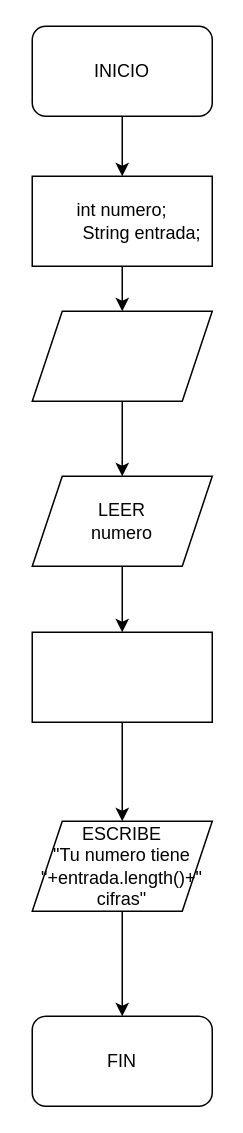
The diagram is 243 pixels wide and 1133 high, and some of its shapes have lost their labels. The shapes that lost their labels are listed below. From the top down, each one's centre as x and y in pixels, then its label:
(121,355): ESCRIBE "Introduce un numero del 0 al 9999"
(121,676): entrada= String.valueOf(numero);
